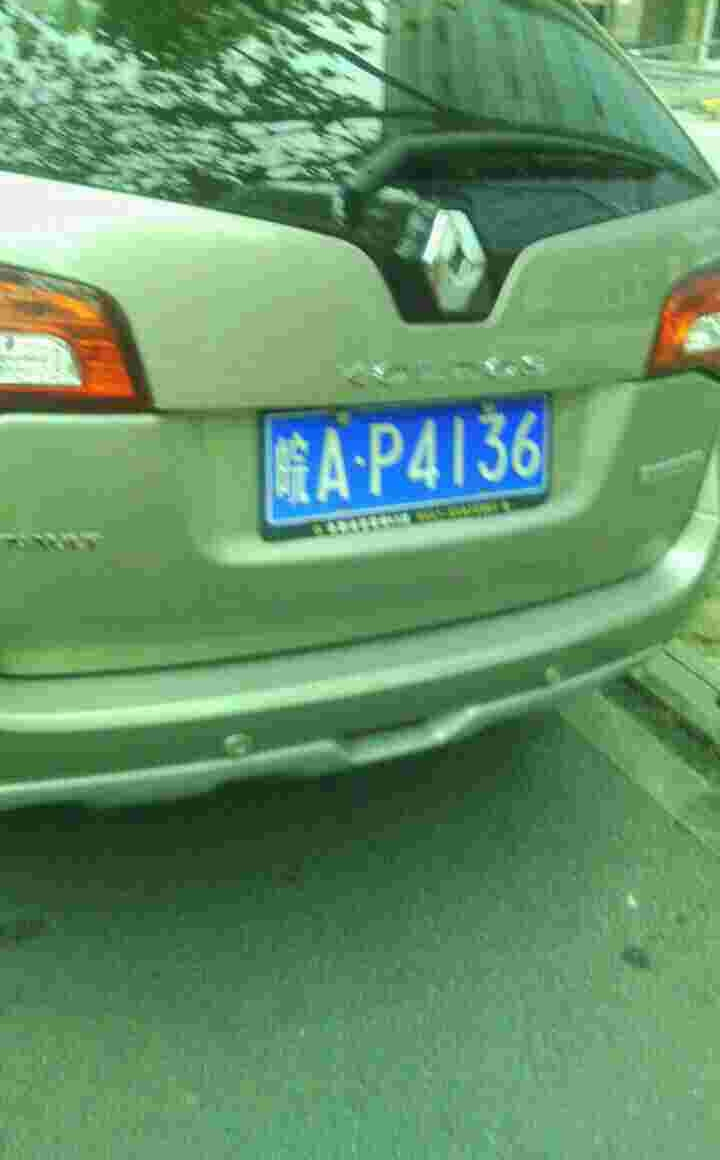license_plate: (263, 396, 559, 522)
